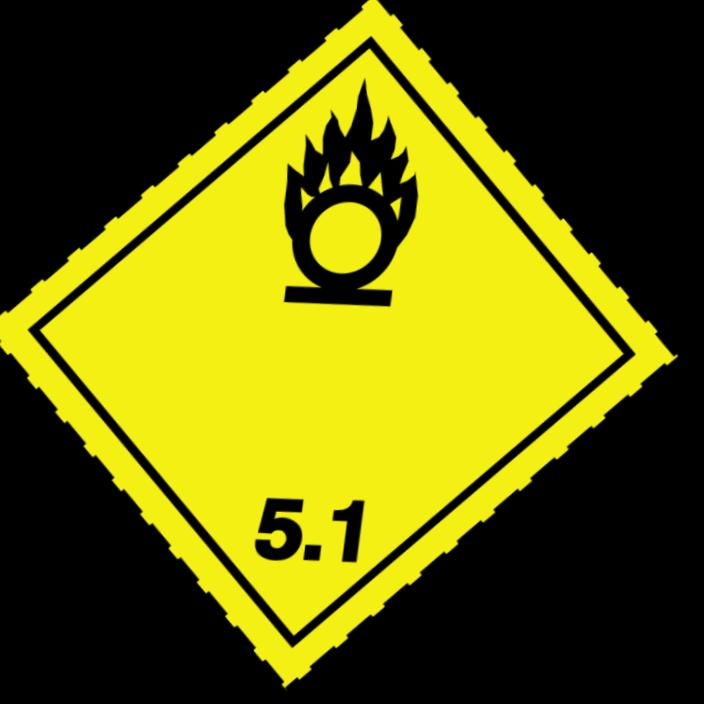defibrillator: (0, 0, 680, 693)
